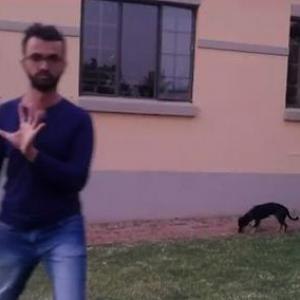follow_hand: (1, 94, 52, 152)
